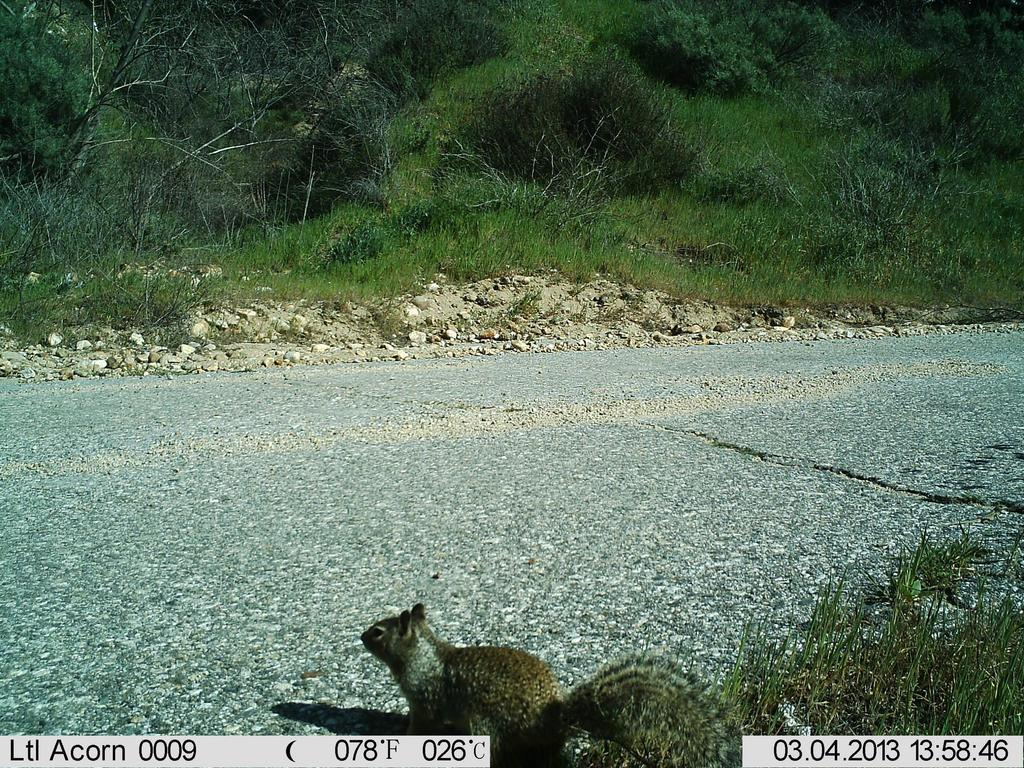squirrel: (354, 596, 735, 743)
